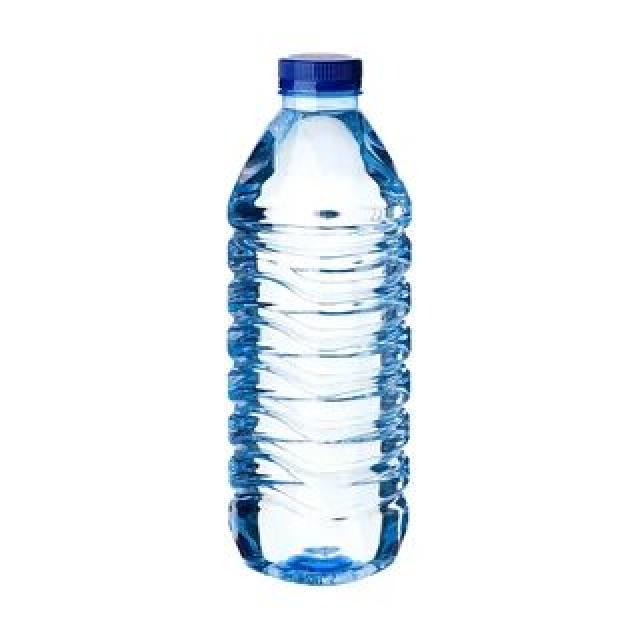blue: (227, 93, 410, 587)
